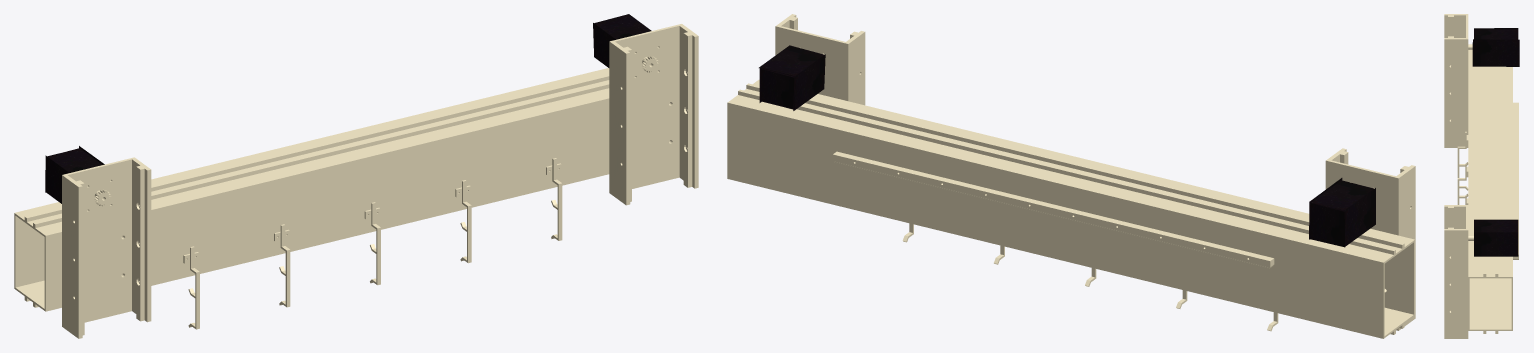
The model's file is X_Motion.dae.
3 renders of one model, left to right at view 1: azimuth 30°, elevation 25°; view 2: azimuth 150°, elevation 25°; view 3: azimuth 270°, elevation 25°, orthographic. The views are drawn at different scales.
Parts seen in each view (by area): view 1: X_Motion, black.006, black.008, black.002, black.001; view 2: X_Motion, black.007, black.009, black.002, black.006, black.001, black.008; view 3: X_Motion, black, black.003, black.006, black.008, black.002, black.001.
Part boxes in pixels (x1,y1,x2,y2): X_Motion: [14, 24, 698, 338]; black.006: [594, 14, 651, 39]; black.008: [47, 148, 102, 172]; black.002: [45, 155, 68, 203]; black.001: [593, 23, 615, 67]; X_Motion: [727, 14, 1415, 338]; black.007: [1309, 202, 1345, 247]; black.009: [760, 68, 795, 109]; black.002: [1344, 188, 1375, 246]; black.006: [759, 45, 824, 77]; black.001: [793, 54, 825, 110]; black.008: [1311, 180, 1373, 211]; X_Motion: [1444, 14, 1518, 338]; black: [1472, 39, 1519, 66]; black.003: [1474, 232, 1518, 256]; black.006: [1474, 220, 1518, 232]; black.008: [1474, 29, 1518, 39]; black.002: [1474, 28, 1518, 29]; black.001: [1474, 219, 1518, 220].
Bounding box in the file's own units: 1.8 × 0.252 × 0.4835.
Materials: 11 (10 with a texture image).
